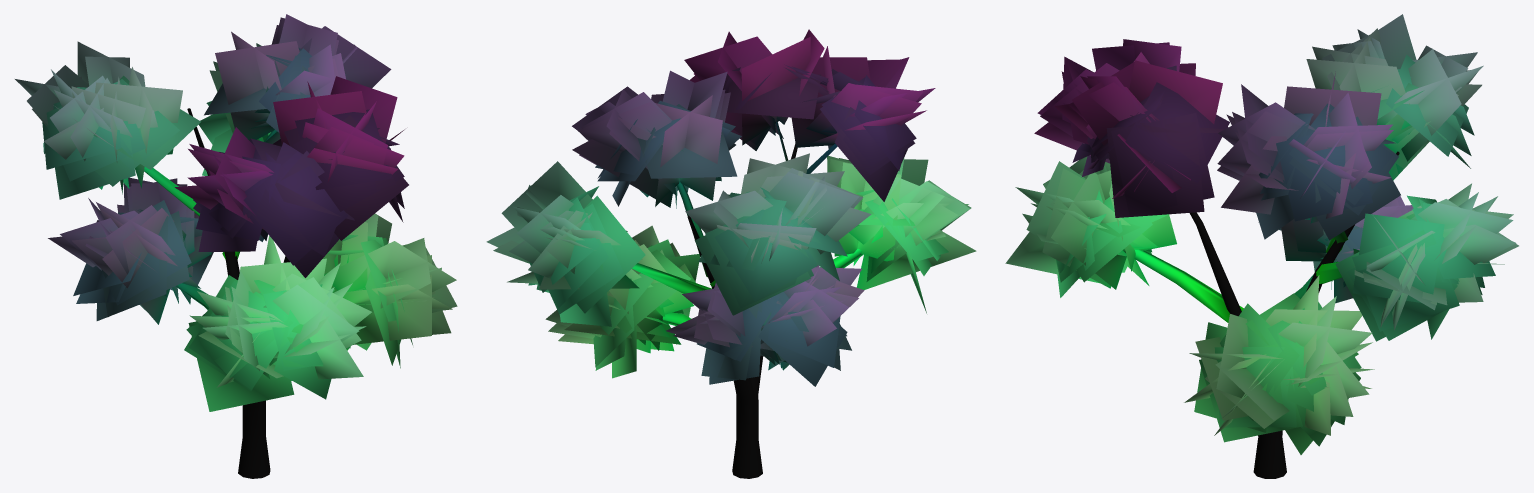
File: foliage_tree_large_001.fbx
3 renders of one model, left to right at view 1: azimuth 30°, elevation 25°; view 2: azimuth 150°, elevation 25°; view 3: azimuth 270°, elevation 25°, orthographic. The views are drawn at different scales.
Parts seen in each view (by area): view 1: Tree_1, treeLarge_1; view 2: Tree_1, treeLarge_1; view 3: Tree_1, treeLarge_1.
Part boxes in pixels (x1,y1,x2,y2): Tree_1: [15, 14, 457, 411]; treeLarge_1: [144, 108, 289, 478]; Tree_1: [486, 29, 976, 386]; treeLarge_1: [632, 121, 863, 478]; Tree_1: [1005, 14, 1518, 454]; treeLarge_1: [1134, 144, 1399, 478].
Bounding box in the file's own units: 1380 × 1504 × 1675.
